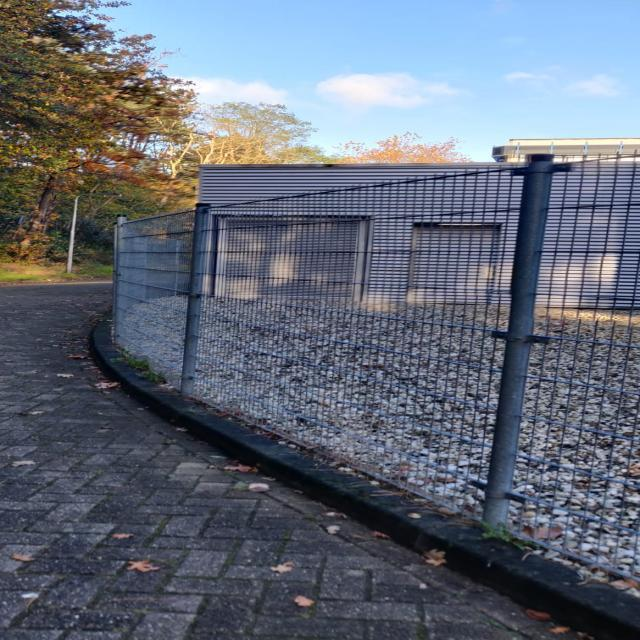fence line: (103, 206, 640, 530)
